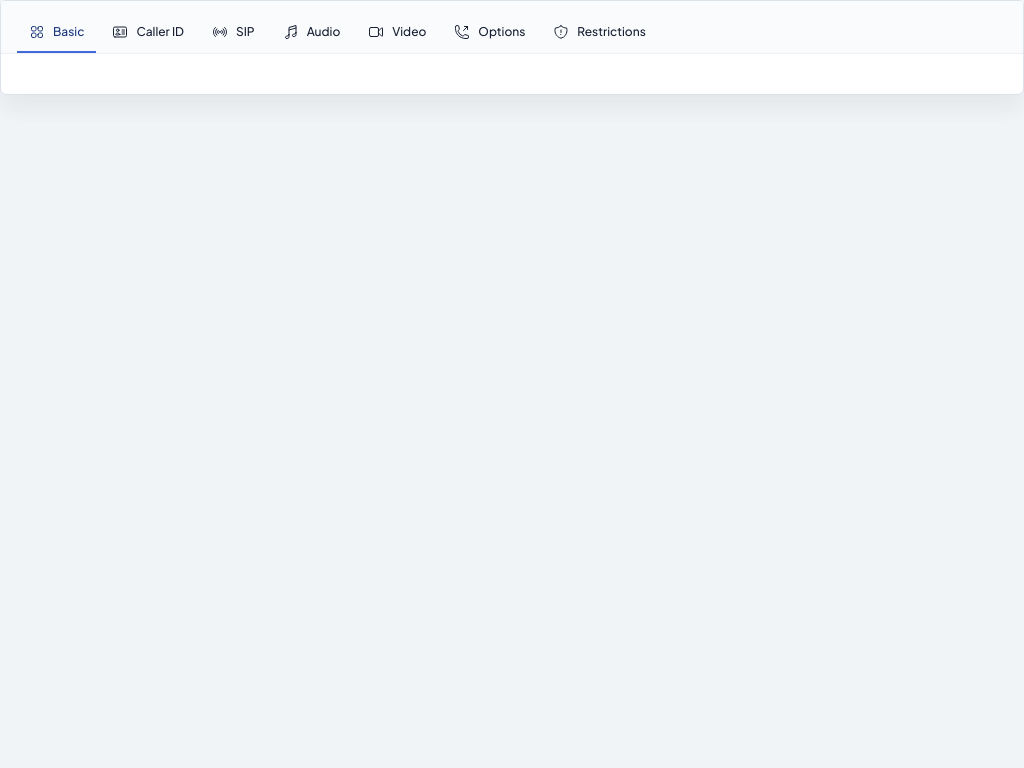
Test case: DeviceAdvancedSettings › renders one visible Headless UI restriction select for every Switch classifier
This screenshot has width=1024, height=768.
Click the tab "Restrictions".
click(600, 33)  # box [541,13,658,53]
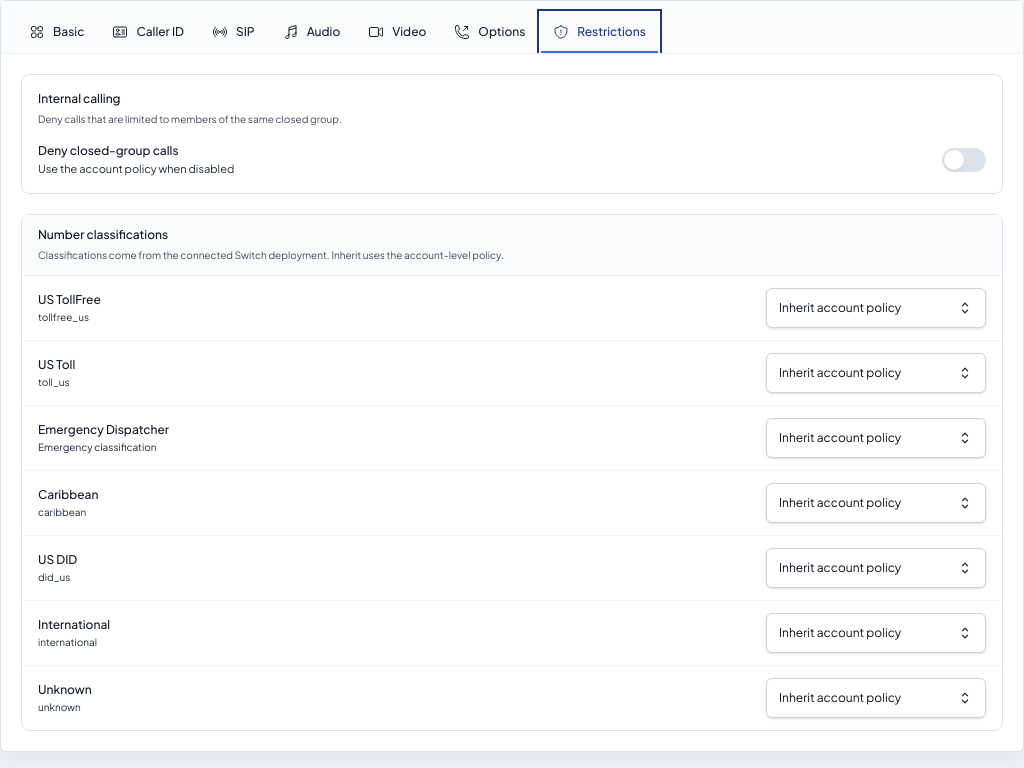
Check: the number of buttons is 7
Check: the button "Inherit account policy" in the row of "US TollFree" is shown, box [766,288,986,328]
Check: the text "Emergency Dispatcher" is shown, box [38,422,169,436]
